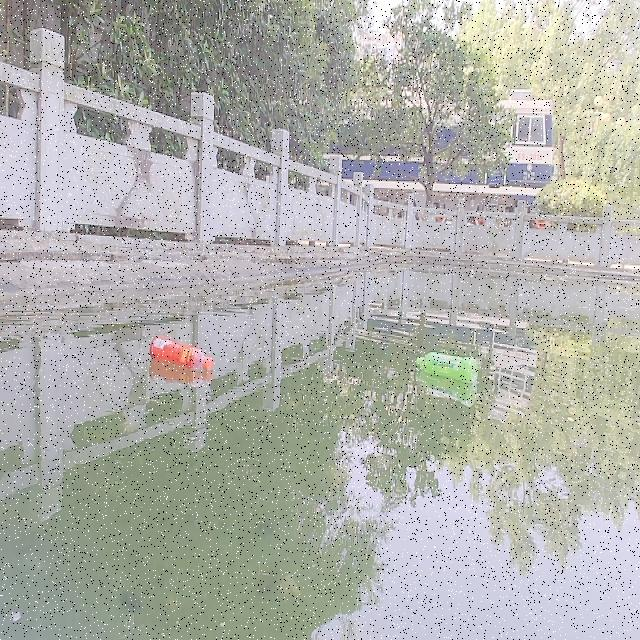Bottle: (147, 332, 213, 373), (413, 349, 478, 383)
